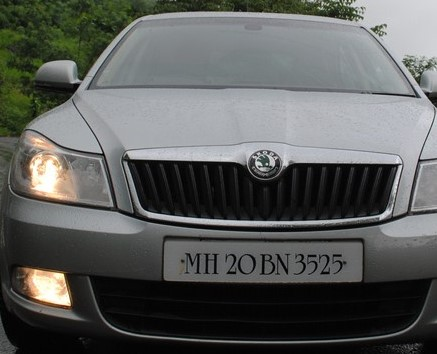MH20BN3525: (163, 238, 364, 284)
